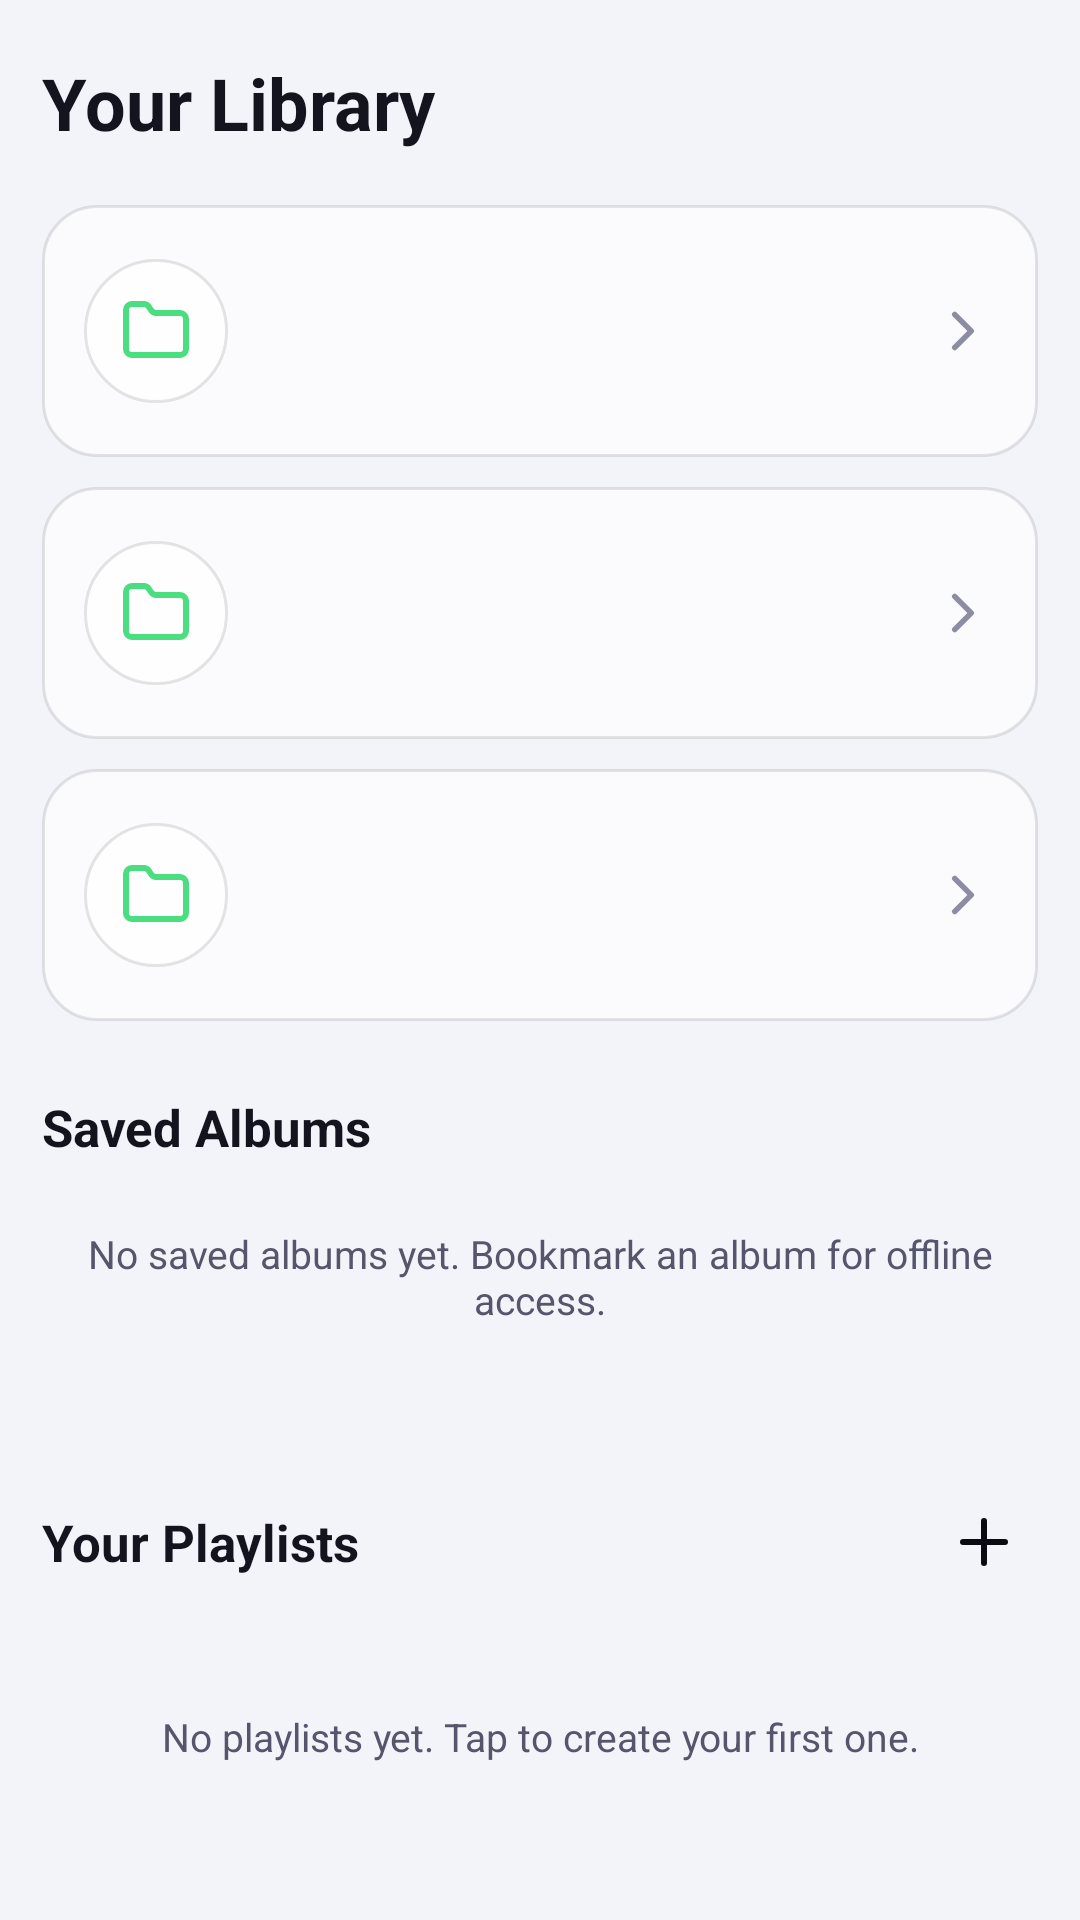

Point at icon controls on the screen. Image size 1080 x 1920, points as (x=x, y=y).
chevron right: (x=963, y=331), (x=963, y=613), (x=963, y=895)
Create Playlist: (x=984, y=1542)
folder: (x=156, y=329), (x=156, y=611), (x=156, y=893)
